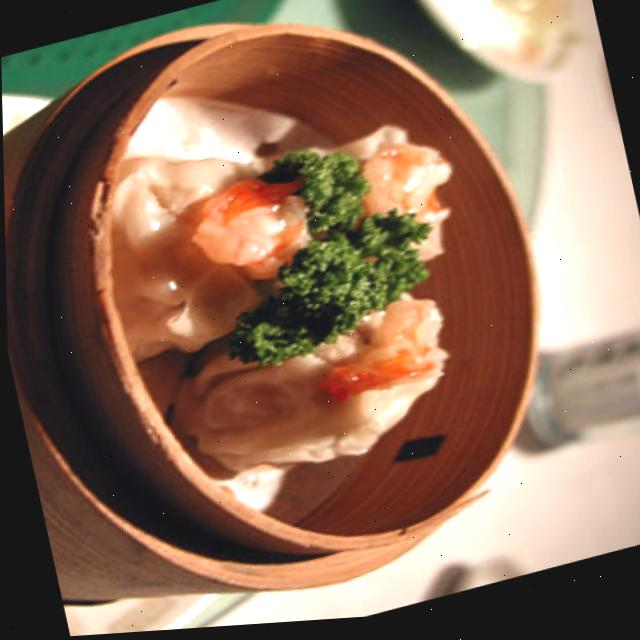带馅早点: (110, 90, 501, 500)
